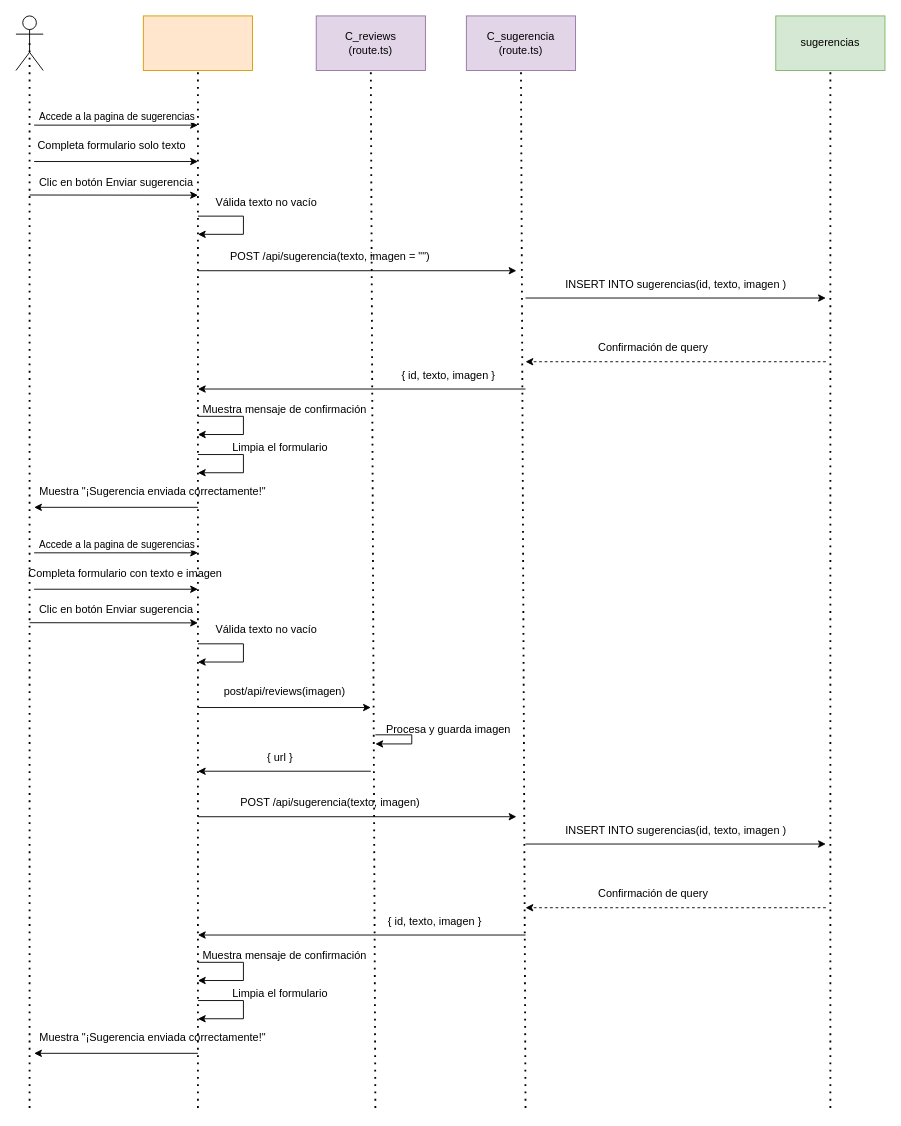
Image size: 901x1126. Some labels were removed from this diagram. The shapes that lost their labels are listed below. From the top down, each one's centre as x and y in pixels, then its label:
At point 29,43: "Actor".
At point 197,43: "V_sugerencias".
